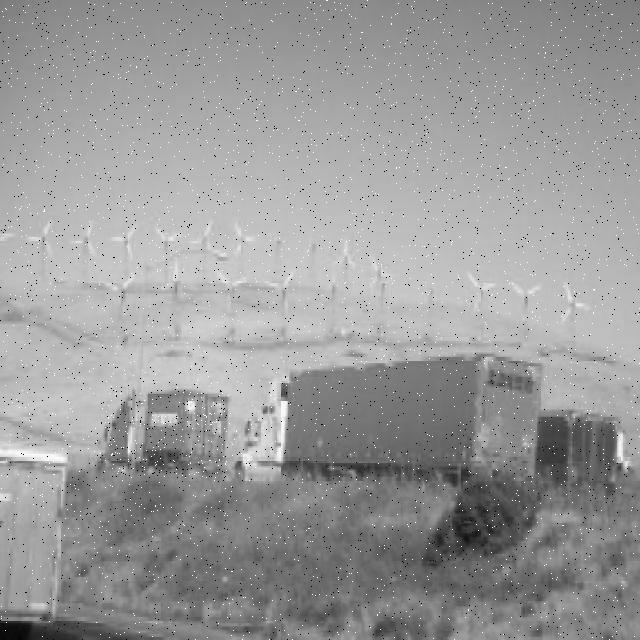Box Truck: (233, 350, 540, 480), (101, 390, 228, 478)
